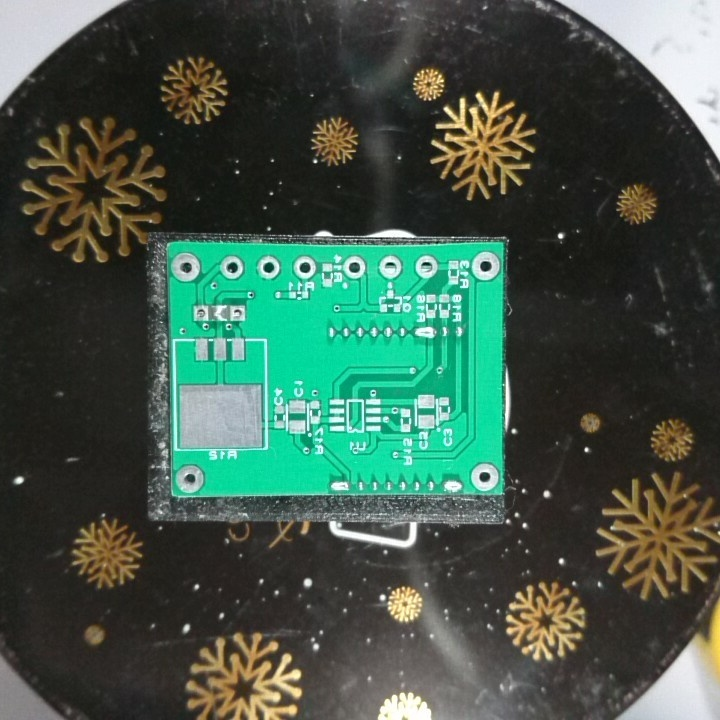F: (167, 250, 203, 285), (468, 460, 502, 493), (469, 249, 500, 285), (175, 463, 209, 495), (218, 253, 247, 282), (254, 254, 283, 283), (376, 253, 404, 281), (340, 253, 366, 282), (412, 254, 439, 281), (291, 254, 318, 280), (190, 303, 211, 324), (229, 302, 247, 326)
P: (412, 322, 438, 344), (327, 476, 353, 493), (439, 478, 464, 495)
